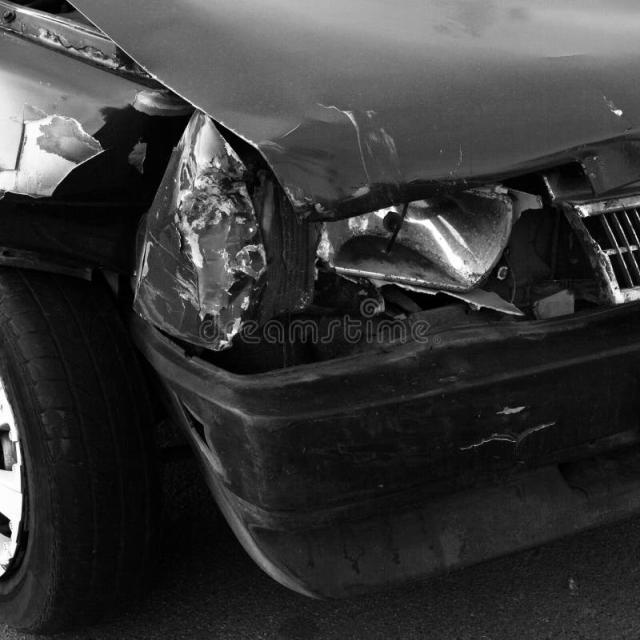crush: (0, 0, 640, 601)
